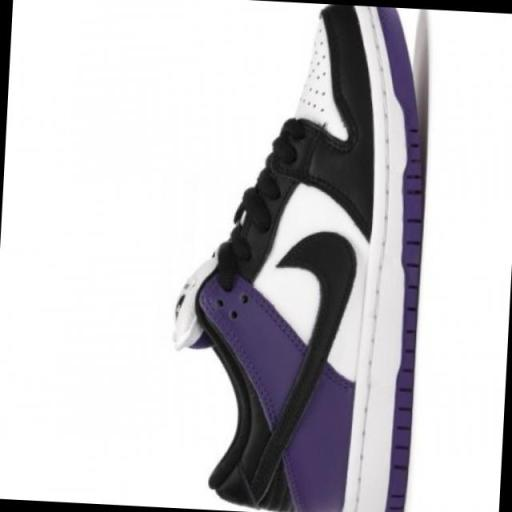Nike: (248, 226, 364, 501)
